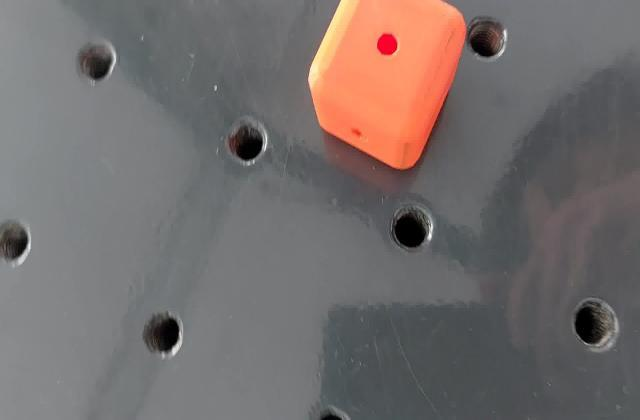cube: (305, 2, 470, 174)
